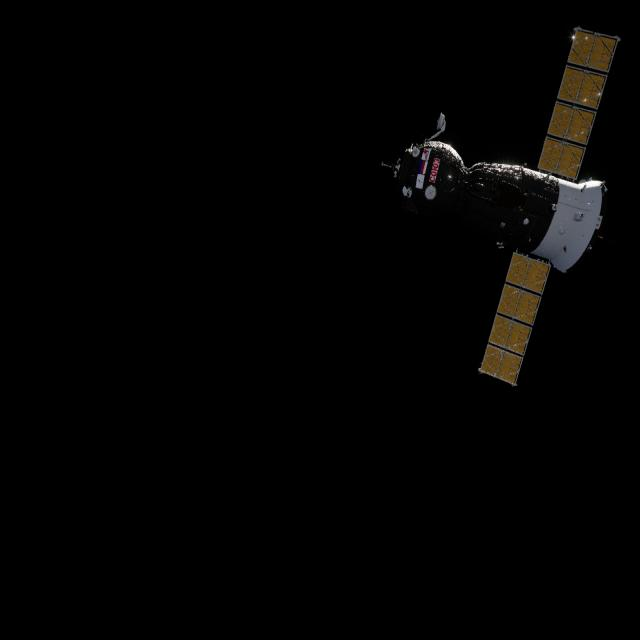Satellites revolving around earth: (379, 24, 622, 389)
